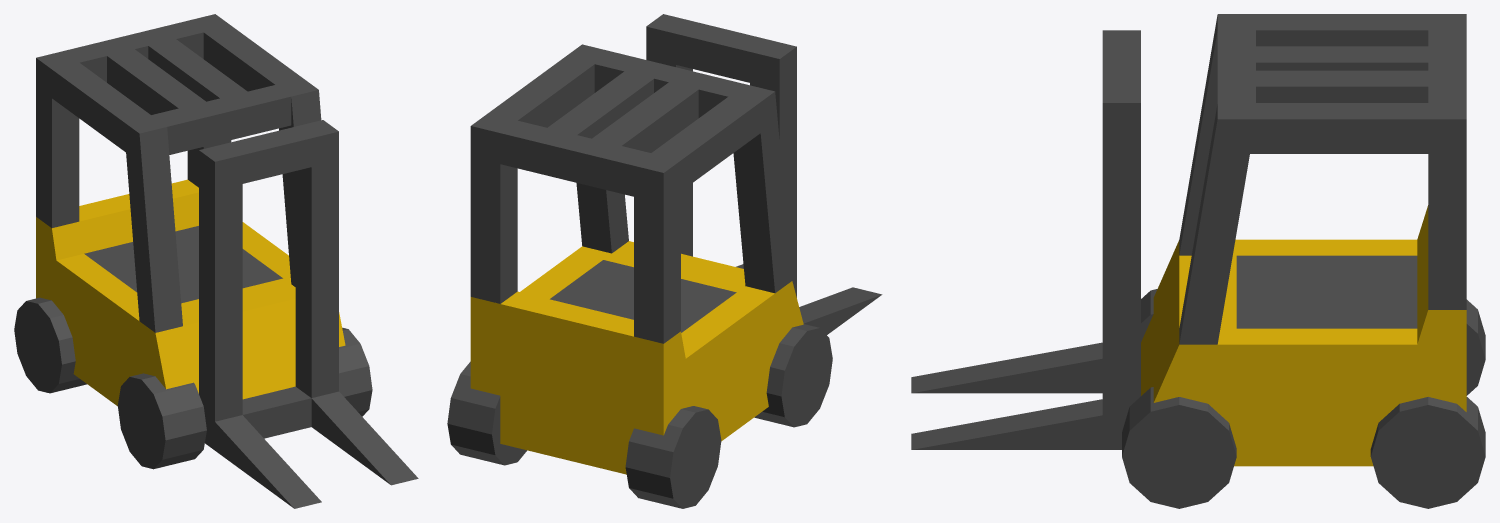
Rendered from forklift.fbx.
The picture shows the model from 3 angles, left to right: view 1: azimuth 30°, elevation 25°; view 2: azimuth 150°, elevation 25°; view 3: azimuth 270°, elevation 25°; orthographic projection. The views are drawn at different scales.
Visible parts, largest first — view 1: Center; view 2: Center; view 3: Center.
Boxes of the visible parts, left/top/right/bottom form: Center: left=14, top=14, right=418, bottom=508; Center: left=447, top=14, right=882, bottom=508; Center: left=911, top=14, right=1485, bottom=508.
Bounding box in the file's own units: 225 × 330 × 450.
